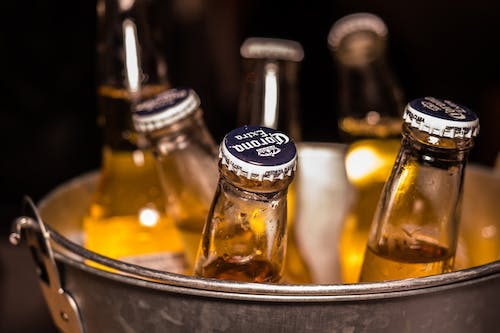alcohol: (131, 86, 316, 286), (81, 0, 192, 277), (356, 96, 481, 283), (325, 11, 405, 283), (193, 125, 299, 284), (239, 36, 304, 252)
